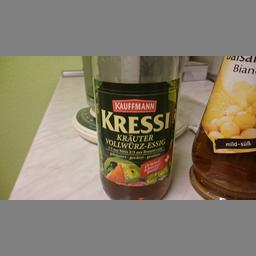vinegar: (90, 55, 180, 201)
